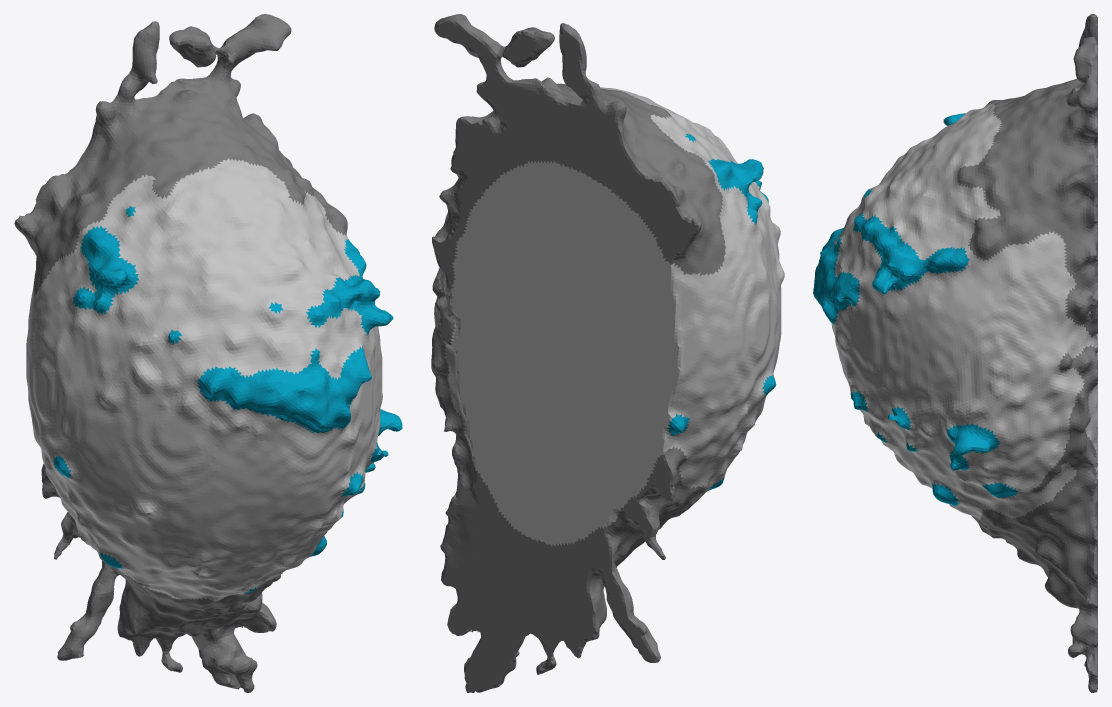
3 views of the same model, side by side, from view 1: azimuth 30°, elevation 25°; view 2: azimuth 150°, elevation 25°; view 3: azimuth 270°, elevation 25° (orthographic). The views are drawn at different scales.
Size of the model in its own units: 86.78 by 173 by 70.36.
